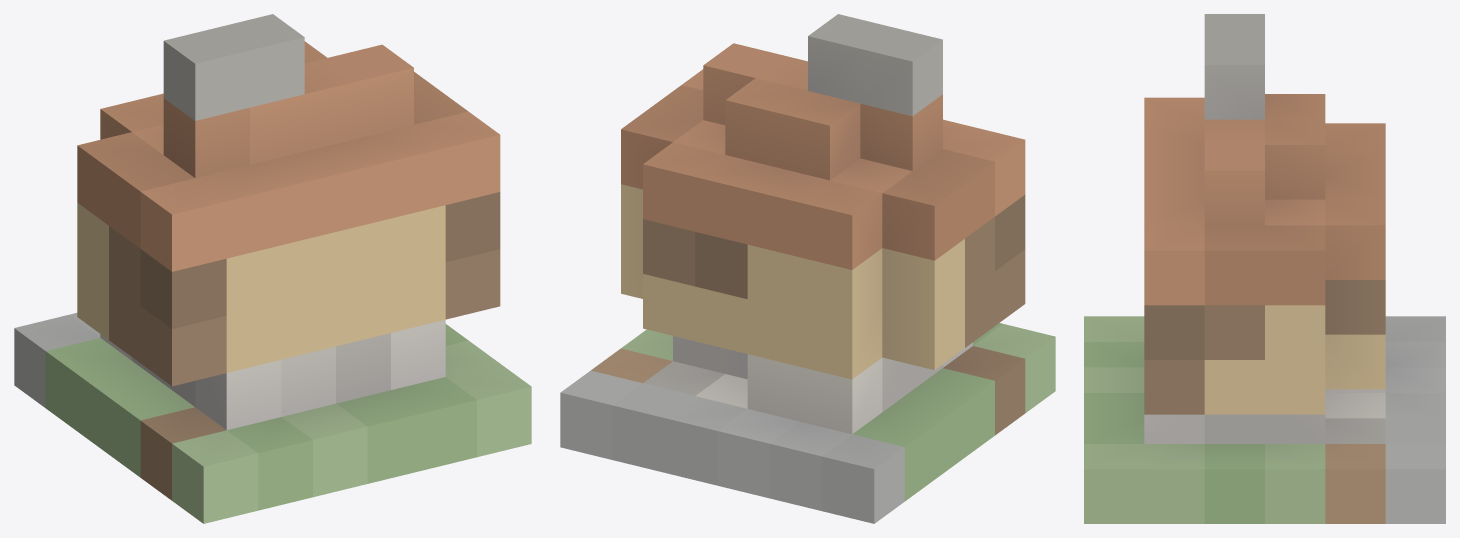
File: house_citizens.v2.lite.glb
The picture shows the model from 3 angles, left to right: view 1: azimuth 30°, elevation 25°; view 2: azimuth 150°, elevation 25°; view 3: azimuth 270°, elevation 25°; orthographic projection. The views are drawn at different scales.
Parts seen in each view (by area): view 1: house_citizens; view 2: house_citizens; view 3: house_citizens.
Part boxes in pixels (x1,y1,x2,y2): house_citizens: [14, 14, 531, 523]; house_citizens: [560, 14, 1055, 523]; house_citizens: [1084, 14, 1445, 523].
Size of the model in its own units: 3 by 3.5 by 3.
